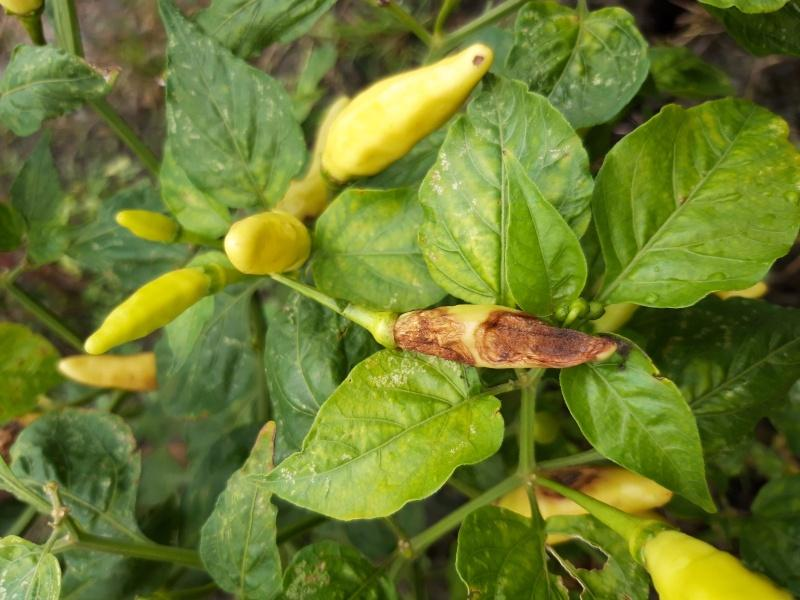antraknosa: (384, 300, 618, 372), (501, 460, 671, 543)
cabai_normal: (322, 45, 494, 182), (83, 263, 224, 356), (220, 212, 317, 278), (56, 352, 161, 393), (115, 206, 178, 242)
